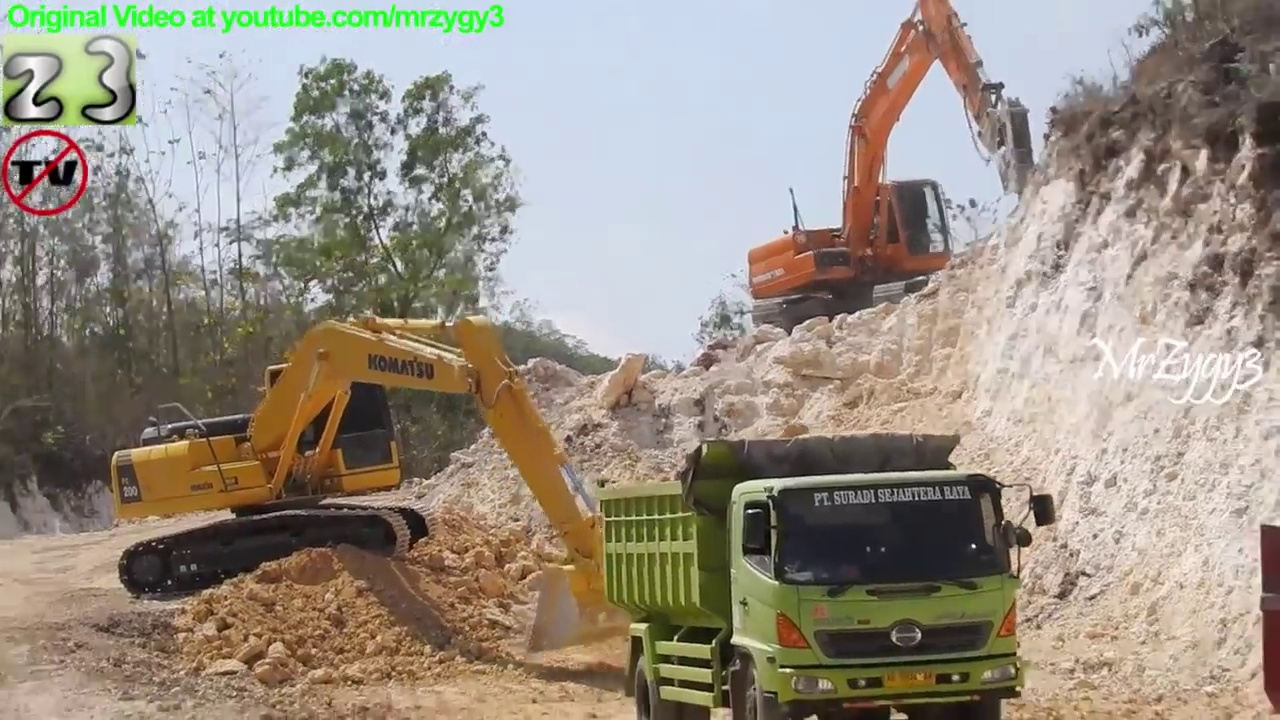excavator: (103, 299, 650, 657), (737, 1, 1043, 343)
truck: (591, 426, 1062, 720), (1255, 516, 1280, 717)
